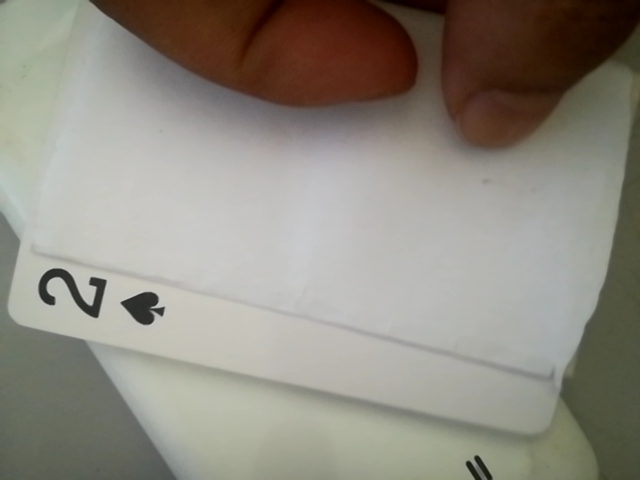ht 2: (19, 258, 177, 341)
